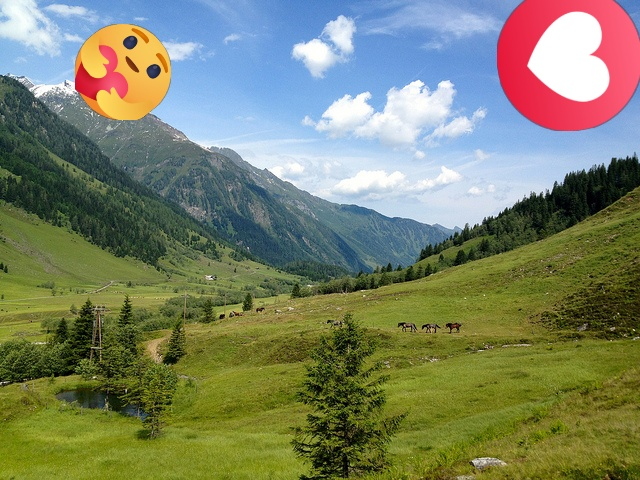care: (75, 24, 171, 120)
love: (497, 0, 640, 131)
